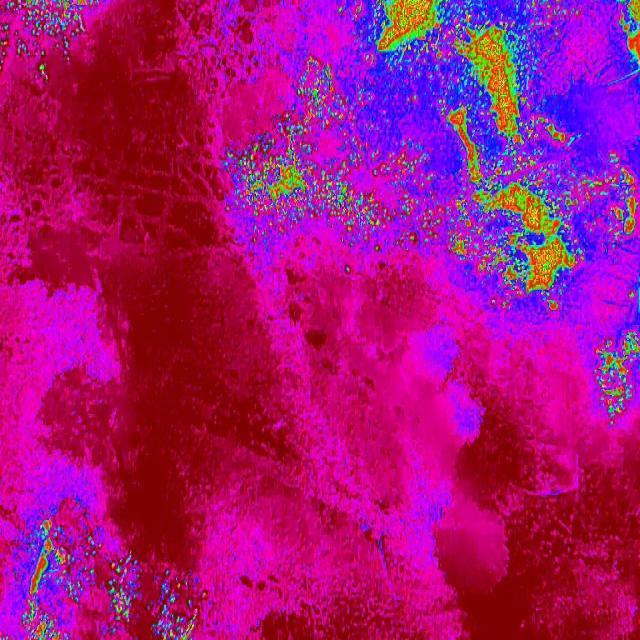fire: (218, 116, 640, 248), (282, 0, 578, 115), (22, 564, 203, 640), (453, 248, 586, 314), (0, 0, 98, 84), (595, 331, 640, 432), (18, 519, 107, 565), (617, 0, 640, 79)
